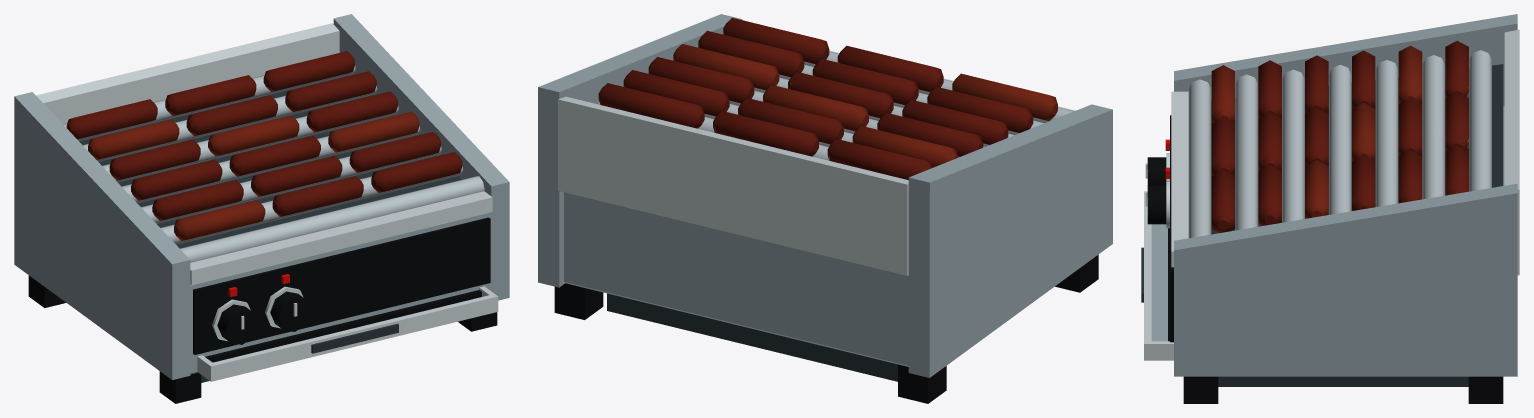
The model's file is HotDogRoller.fbx.
The picture shows the model from 3 angles, left to right: view 1: azimuth 30°, elevation 25°; view 2: azimuth 150°, elevation 25°; view 3: azimuth 270°, elevation 25°; orthographic projection. The views are drawn at different scales.
Visible parts, largest first — view 1: HotDogRoller_Body; view 2: HotDogRoller_Body; view 3: HotDogRoller_Body.
Boxes of the visible parts, bbox=[...] form: HotDogRoller_Body: bbox=[14, 14, 509, 403]; HotDogRoller_Body: bbox=[538, 14, 1112, 403]; HotDogRoller_Body: bbox=[1141, 14, 1519, 403].
Size of what is drawn, in the model's own units: 0.39 by 0.218 by 0.348.
1 material, 1 textured.
